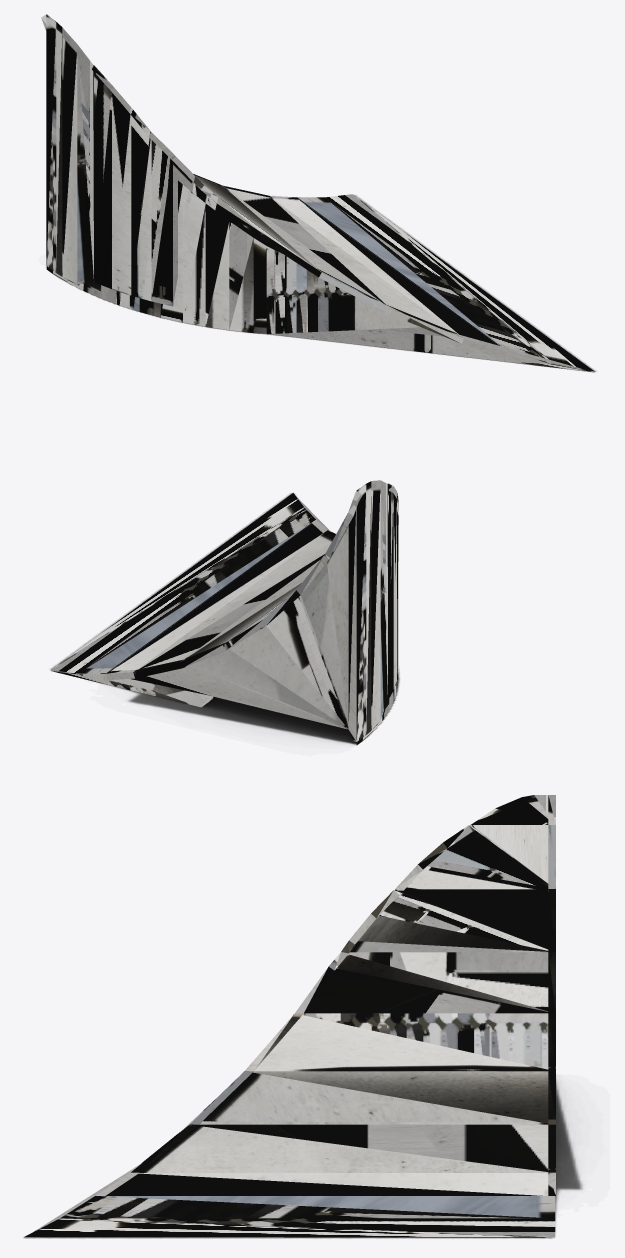
The model's file is cross-ramp-150r.gltf.
The picture shows the model from 3 angles, top to bottom: view 1: azimuth 30°, elevation 25°; view 2: azimuth 150°, elevation 25°; view 3: azimuth 270°, elevation 25°; orthographic projection. The views are drawn at different scales.
Parts seen in each view (by area): view 1: SK1231_Cross-Ramp_150R.001, Schatten; view 2: SK1231_Cross-Ramp_150R.001, Schatten; view 3: SK1231_Cross-Ramp_150R.001, Schatten.
Boxes of the visible parts, x1,y1,x2,y2 form: SK1231_Cross-Ramp_150R.001: (41, 14, 594, 372); Schatten: (55, 195, 595, 372); SK1231_Cross-Ramp_150R.001: (50, 480, 398, 745); Schatten: (50, 493, 399, 744); SK1231_Cross-Ramp_150R.001: (24, 795, 555, 1237); Schatten: (23, 1079, 582, 1238).
Size of the model in its own units: 1.93 by 1.45 by 2.81.
Materials: 5 (5 with a texture image).
